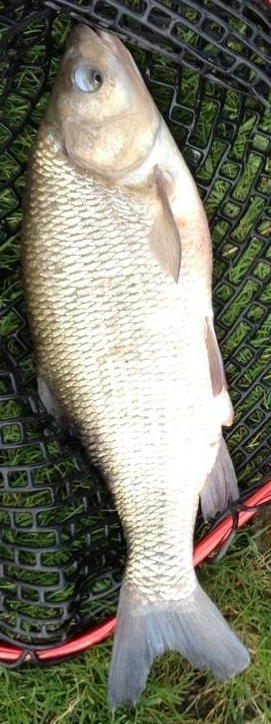Leuciscus idus: (20, 20, 251, 704)
